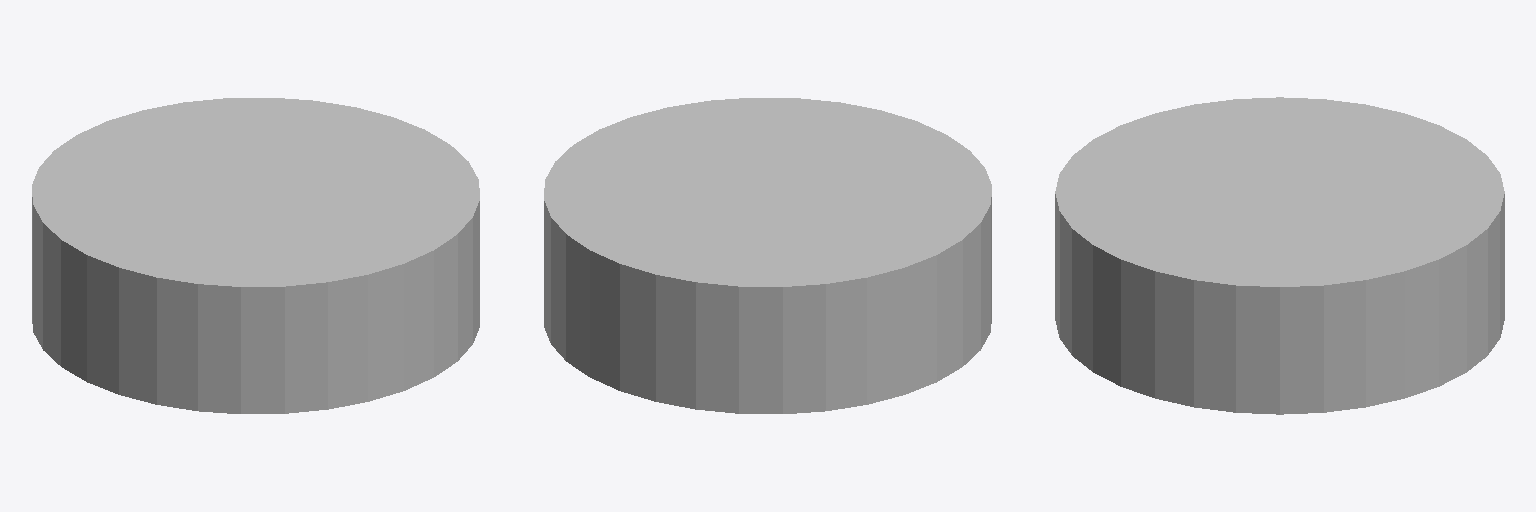
Rendered from disc.obj.
The picture shows the model from 3 angles: view 1: azimuth 30°, elevation 25°; view 2: azimuth 150°, elevation 25°; view 3: azimuth 270°, elevation 25°; orthographic projection.
Parts seen in each view (by area): view 1: Cylinder_Cylinder.001; view 2: Cylinder_Cylinder.001; view 3: Cylinder_Cylinder.001.
Boxes of the visible parts, <box> form: Cylinder_Cylinder.001: <box>32,98,479,413</box>; Cylinder_Cylinder.001: <box>544,98,991,413</box>; Cylinder_Cylinder.001: <box>1055,97,1504,414</box>.
Size of the model in its own units: 32 by 10 by 32.